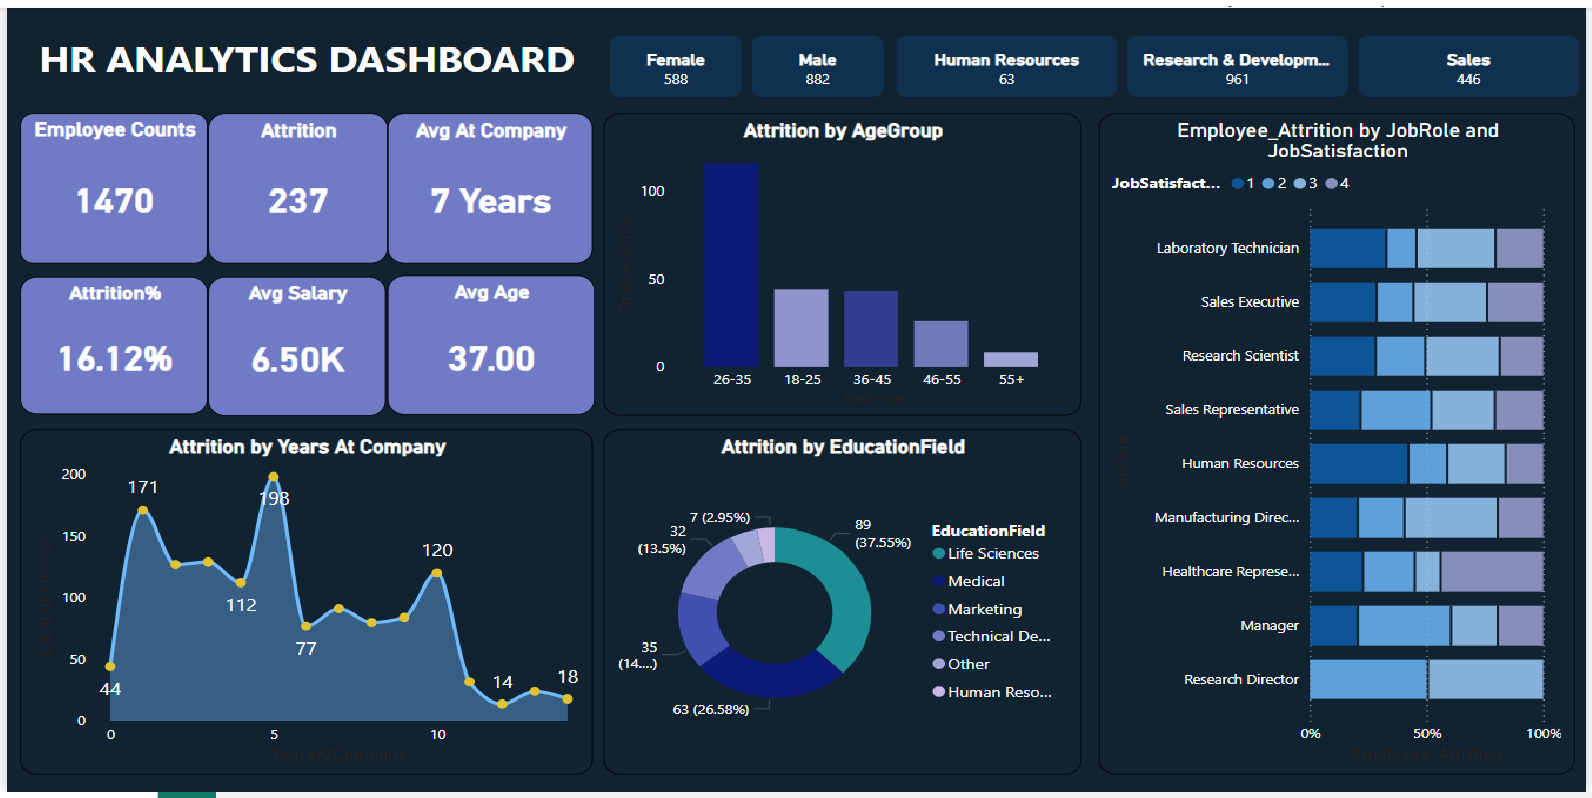

The page's visual inventory and layout, read from the dashboard file:
{"tool":"powerbi","page":{"name":"HR_DASHBOARD","canvas":[1280,720],"ordinal":0},"visuals":[{"type":"card","title":"Employee Counts","fields":{"Values":["HR_Analytics.Employee_Count"]},"box":[10.7,96.4,152.4,138.1],"z":0},{"type":"card","title":" Attrition","fields":{"Values":["HR_Analytics.Employee_Attrition"]},"box":[163.1,96.4,145.2,138.1],"z":1000},{"type":"card","title":"Avg At Company","fields":{"Values":["HR_Analytics.Years_With_Text"]},"box":[308.3,96.4,166.7,138.1],"z":2000},{"type":"card","title":"Attrition%","fields":{"Values":["HR_Analytics.Attrition%"]},"box":[10.7,246.4,152.4,127.4],"z":3000},{"type":"card","title":"Avg Salary","fields":{"Values":["HR_Analytics.Avg_Salary"]},"box":[163.1,246.4,144,128.6],"z":4000},{"type":"card","title":"Avg Age","fields":{"Values":["HR_Analytics.Avg_Age"]},"box":[308.3,245.2,167.9,128.6],"z":5000},{"type":"areaChart","title":"Attrition by Years At Company","fields":{"Y":["CountNonNull(HR_Analytics.Attrition)"],"Category":["HR_Analytics.YearsAtCompany"]},"box":[10.7,386.9,464.3,317.9],"z":6000},{"type":"donutChart","title":"Attrition by EducationField","fields":{"Y":["HR_Analytics.Employee_Attrition"],"Category":["HR_Analytics.EducationField"]},"box":[483.3,386.9,386.9,317.9],"z":7000},{"type":"clusteredColumnChart","title":"Attrition by AgeGroup","fields":{"Category":["HR_Analytics.AgeGroup"],"Y":["HR_Analytics.Employee_Attrition"]},"box":[483.3,96.4,386.9,278.6],"z":8000},{"type":"hundredPercentStackedBarChart","fields":{"Category":["HR_Analytics.JobRole"],"Y":["HR_Analytics.Employee_Attrition"],"Series":["HR_Analytics.JobSatisfaction"]},"box":[884.5,96.4,385.7,608.3],"z":9000},{"type":"advancedSlicerVisual","fields":{"Values":["HR_Analytics.Gender"]},"box":[483.3,20.2,232.1,67.9],"z":10000},{"type":"advancedSlicerVisual","fields":{"Values":["HR_Analytics.Department"]},"box":[715.5,20.2,564.3,67.9],"z":11000},{"type":"textbox","box":[10.7,20.2,464.3,67.9],"z":12000}]}

Visuals, with their boxes on the page's 1280x720 design canvas (x1, y1, x2, y2). These are canvas units, not pixel positions in the 1592x798 screenshot, which may show the page scaled, cropped or inside an application window:
"Employee Counts" card: select_region(11, 96, 163, 234)
" Attrition" card: select_region(163, 96, 308, 234)
"Avg At Company" card: select_region(308, 96, 475, 234)
"Attrition%" card: select_region(11, 246, 163, 374)
"Avg Salary" card: select_region(163, 246, 307, 375)
"Avg Age" card: select_region(308, 245, 476, 374)
"Attrition by Years At Company" areaChart: select_region(11, 387, 475, 705)
"Attrition by EducationField" donutChart: select_region(483, 387, 870, 705)
"Attrition by AgeGroup" clusteredColumnChart: select_region(483, 96, 870, 375)
hundredPercentStackedBarChart - HR_Analytics.JobRole x HR_Analytics.Employee_Attrition: select_region(884, 96, 1270, 705)
advancedSlicerVisual - HR_Analytics.Gender: select_region(483, 20, 715, 88)
advancedSlicerVisual - HR_Analytics.Department: select_region(716, 20, 1280, 88)
textbox: select_region(11, 20, 475, 88)
